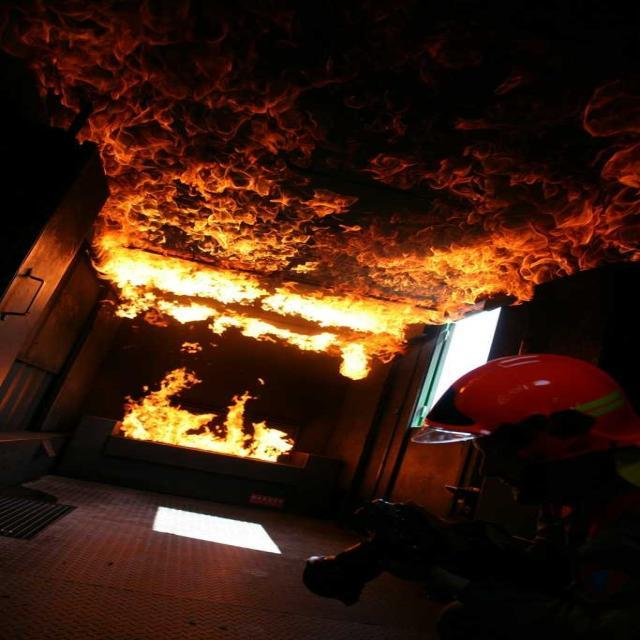Fire: (116, 197, 499, 310), (99, 25, 177, 197), (137, 392, 264, 443)
